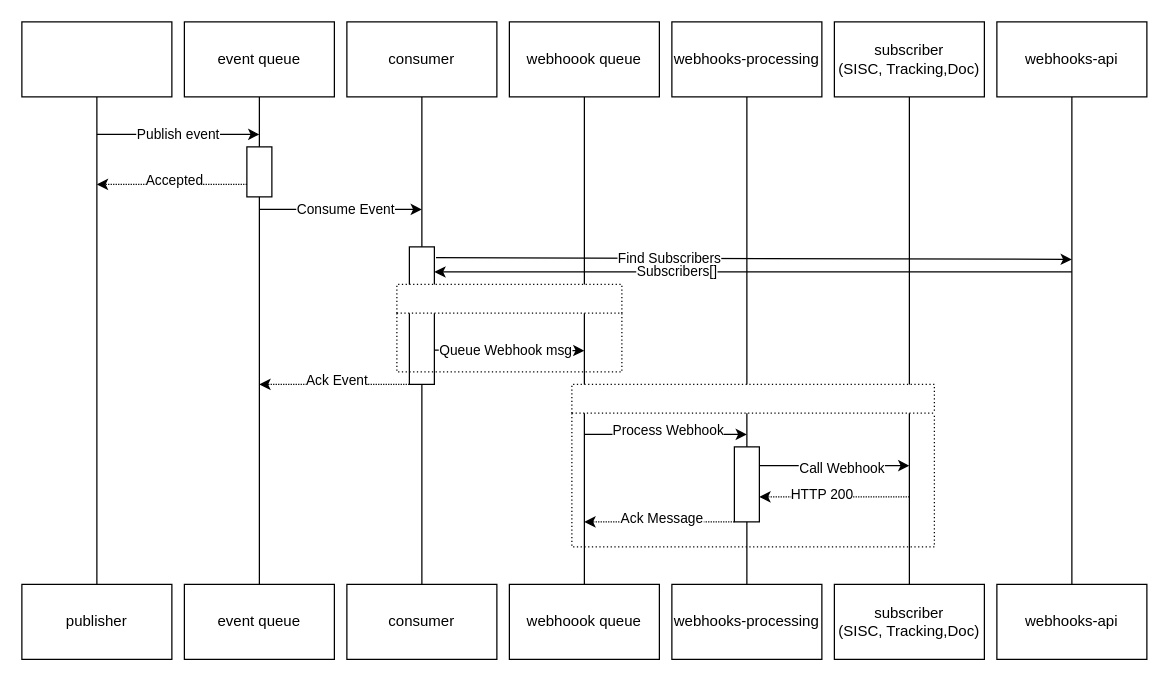
This 1169x681 diagram has some shape labels left out. Each missing label, with the box of its shape:
For each subscriber: (396, 283, 622, 372)
Parallel processing: (571, 383, 934, 547)
publisher (SISC, Tracking,Doc): (21, 21, 172, 97)
